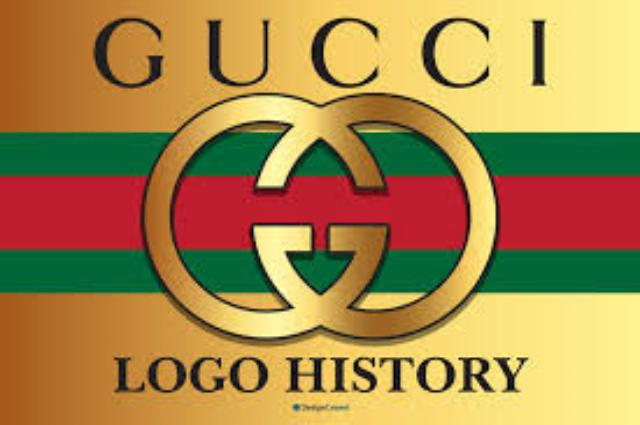Gucci: (139, 93, 499, 344), (89, 14, 564, 92)
